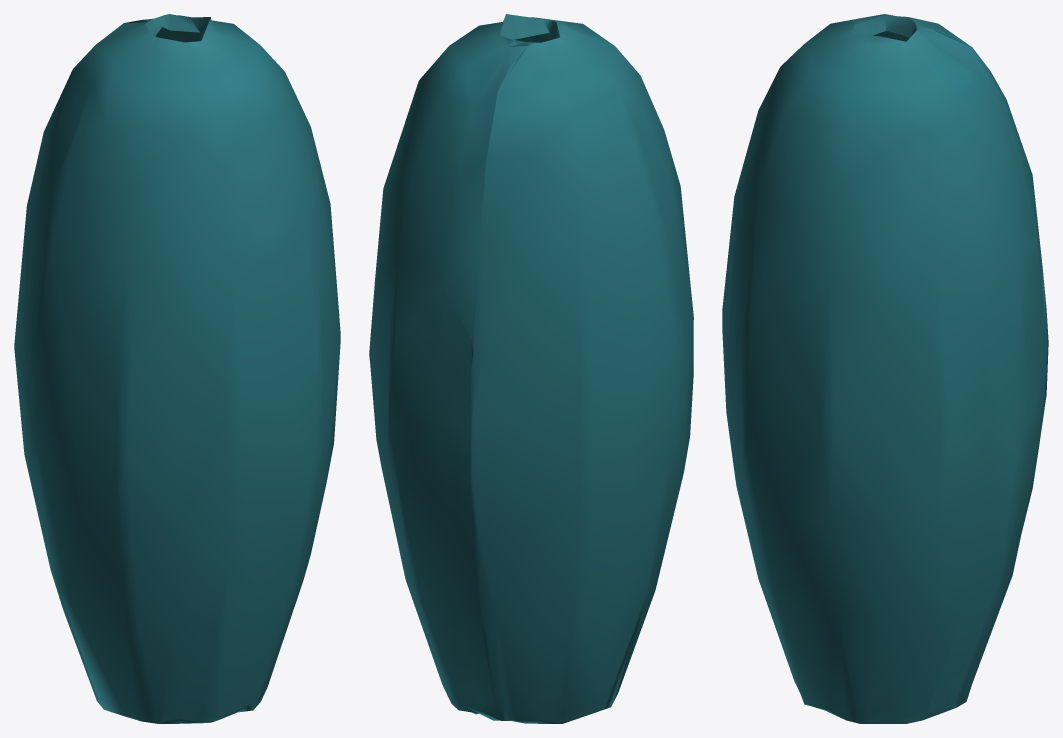
Rendered from Vase0006.obj.
3 renders of one model, left to right at view 1: azimuth 30°, elevation 25°; view 2: azimuth 150°, elevation 25°; view 3: azimuth 270°, elevation 25°, orthographic.
Size of the model in its own units: 0.163 by 0.367 by 0.163.
Materials: 1 (1 with a texture image).
